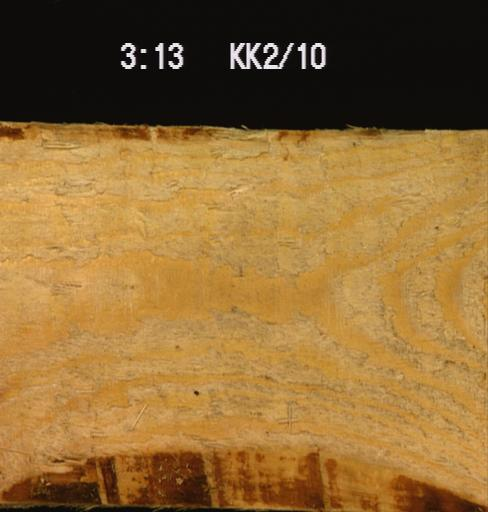wave: (0, 446, 487, 511), (1, 114, 426, 150)
